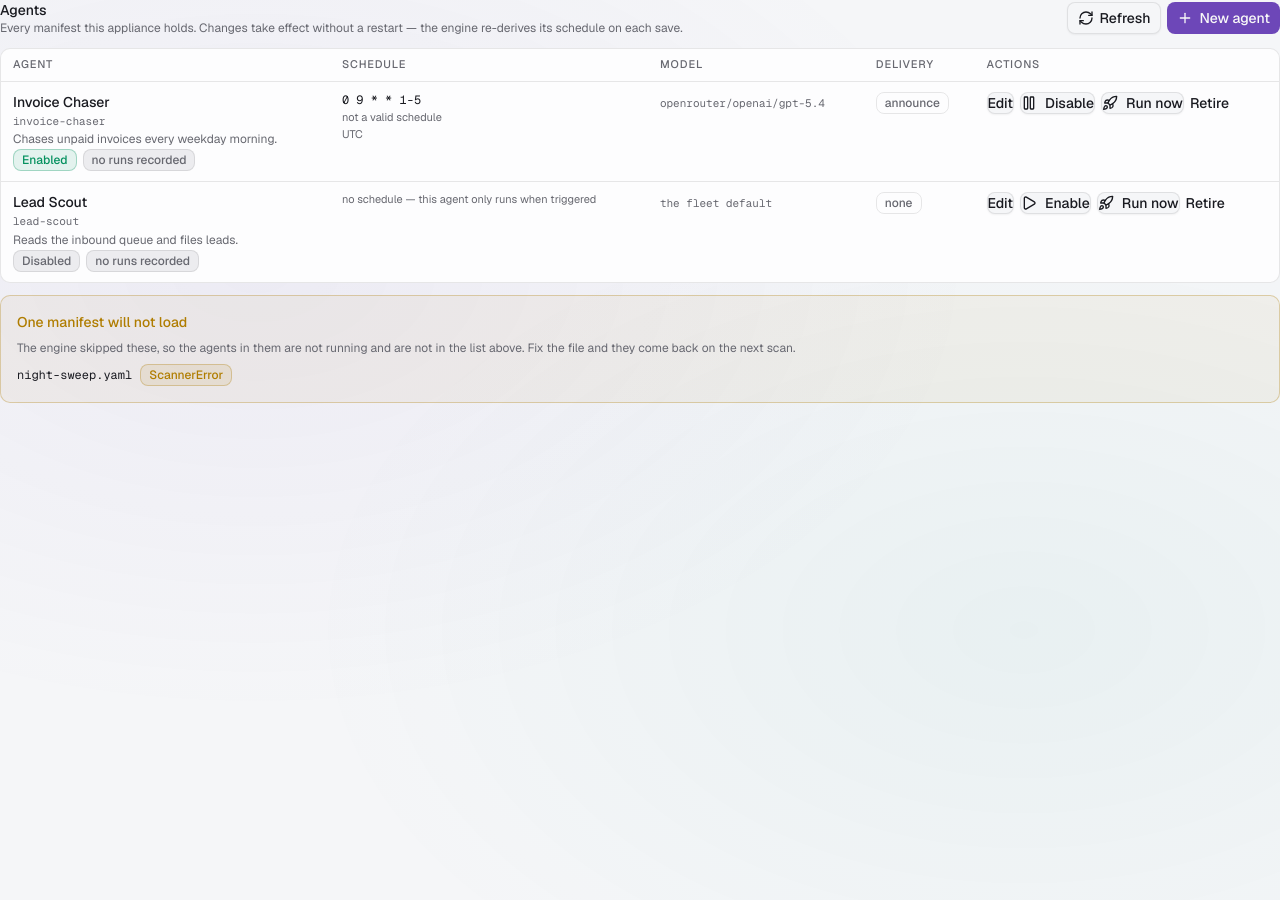
it: AgentManifests — creating › warns when the manifest was written but the engine did not reconcile
The width and height of the screenshot is (1280, 900).
Expected: the row with test id "agent-row-invoice-chaser" is shown, [1,81,1279,182]
Step 1. Click the button with test id "agent-new" → (1224, 18), box [1167,2,1279,34]
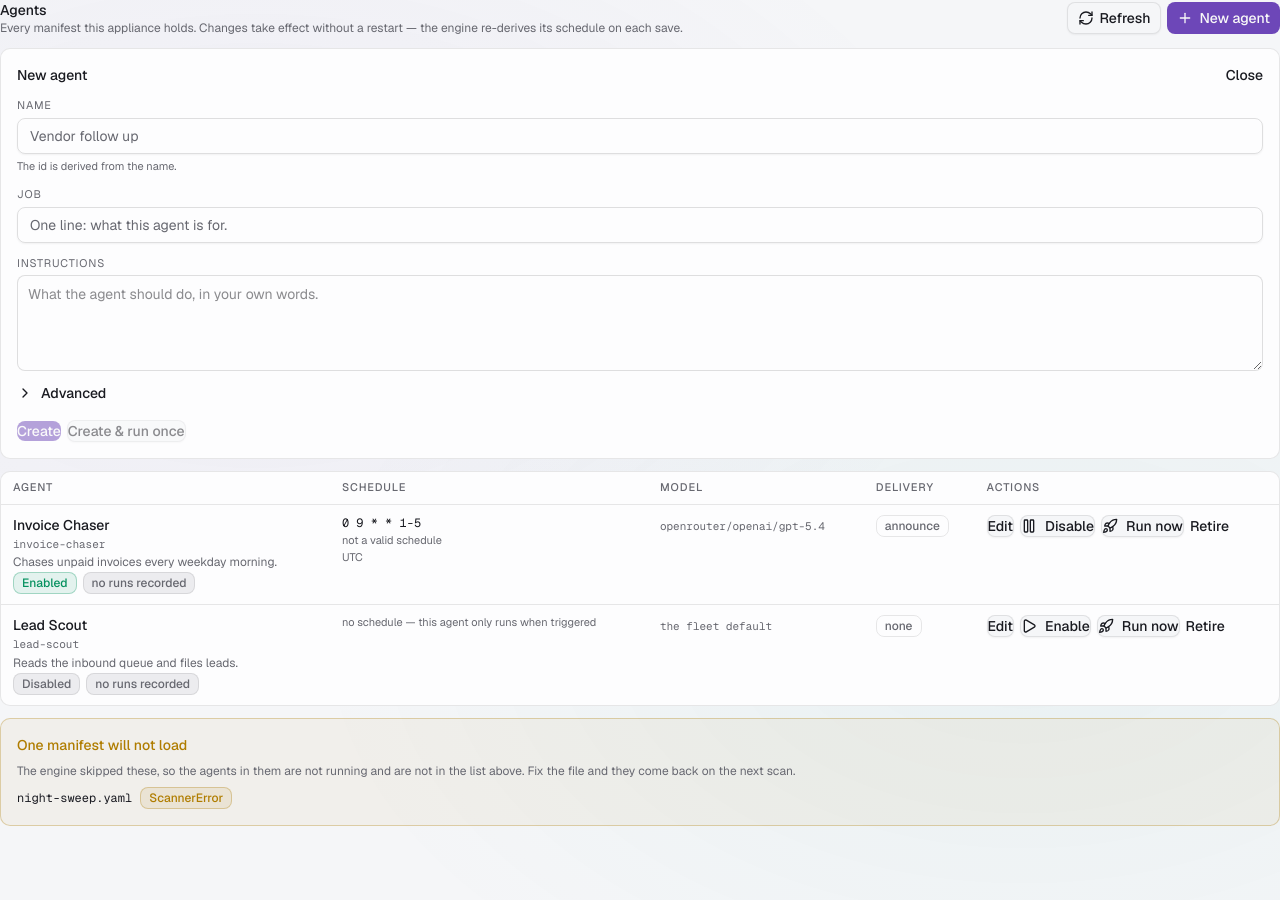
Step 2. Type "Vendor Follow Up" into the field with test id "agent-field-name" → (640, 136), box [17,118,1263,154]
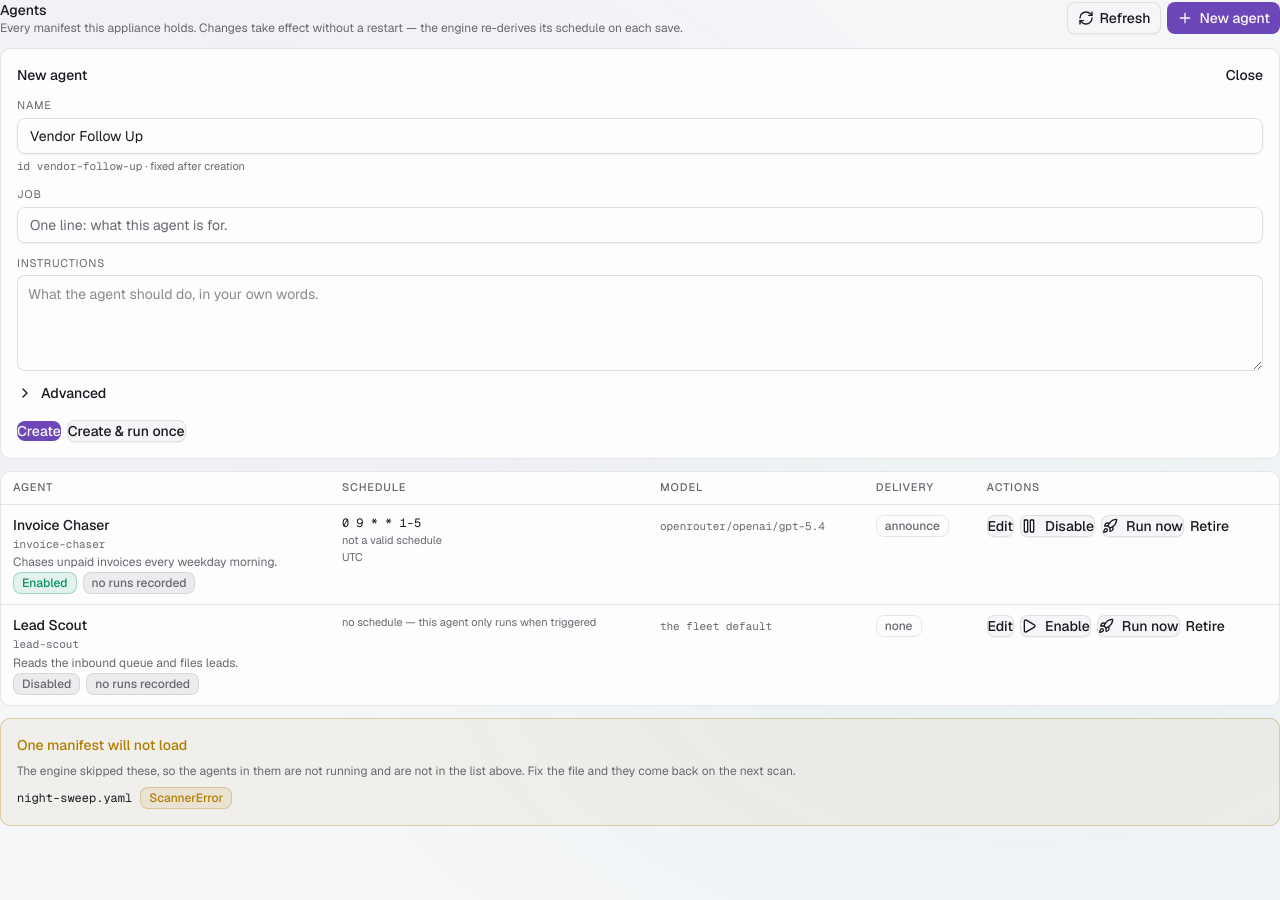
Step 3. Type "Chase vendors who have gone quiet." into the field with test id "agent-field-job" → (640, 224), box [17,206,1263,242]
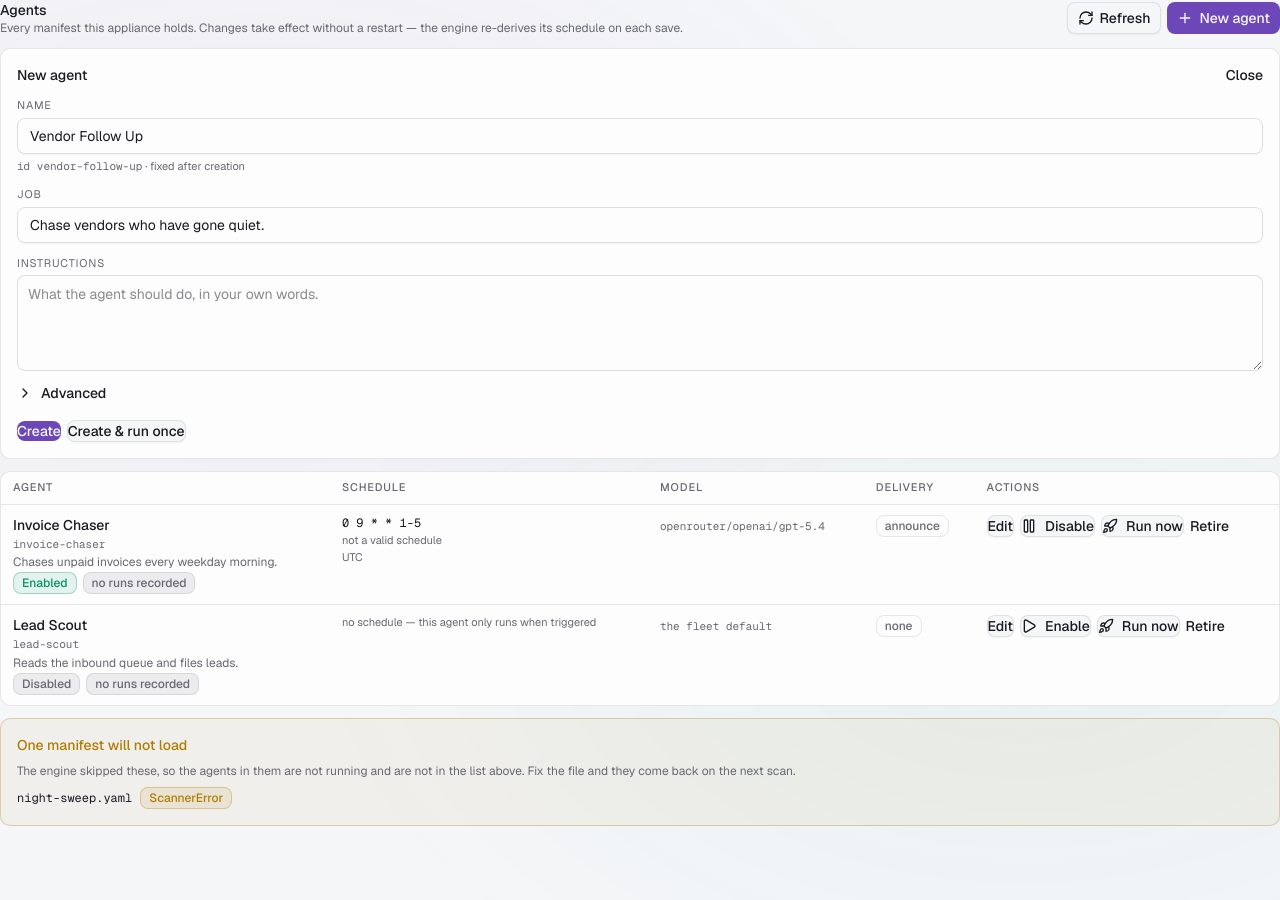
Step 4. Type "Open the vendor list and write to anyone silent for a week." into the text box with test id "agent-field-instructions" → (640, 323), box [17,275,1263,371]
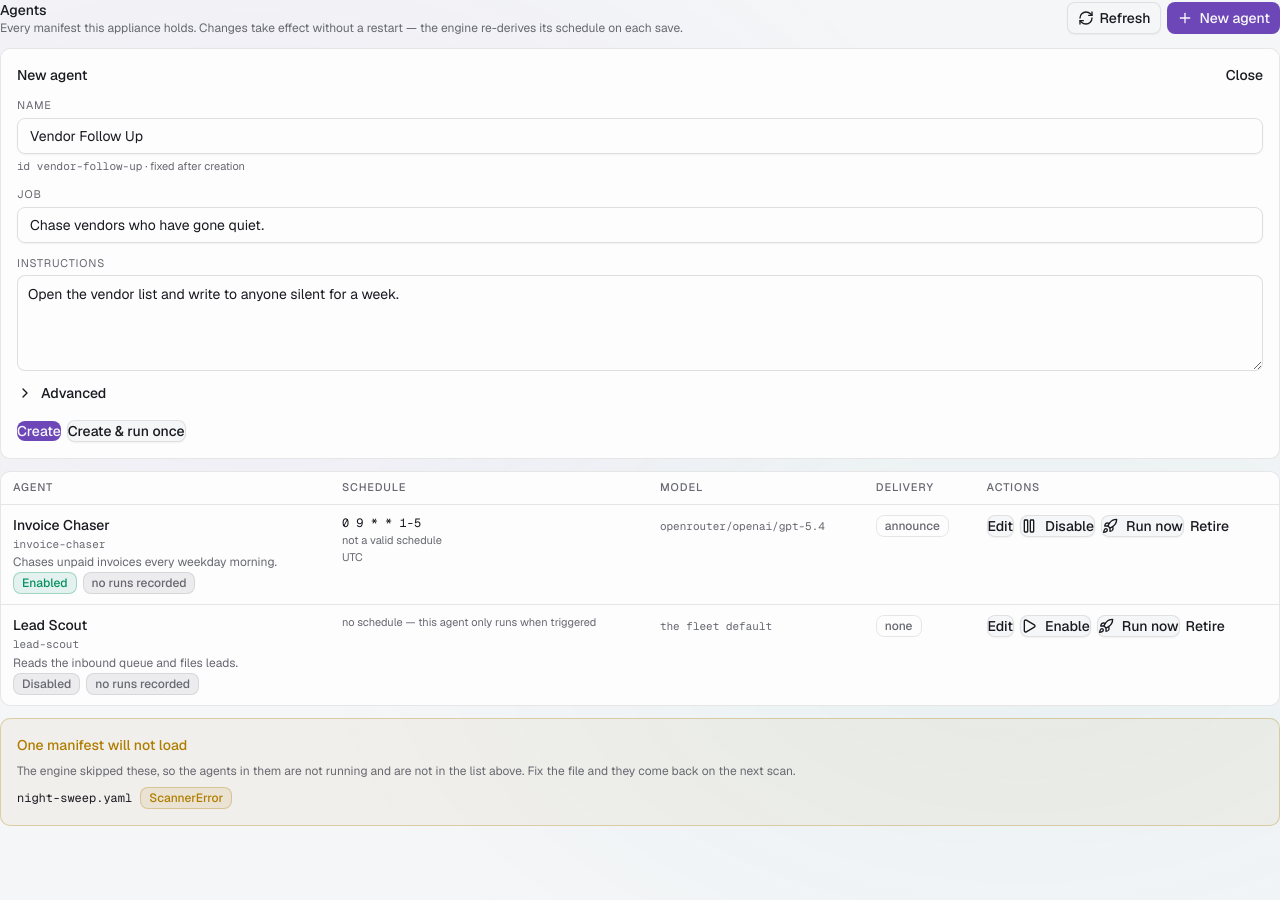
Step 5. Click the button with test id "agent-create" → (39, 431), box [17,421,61,441]
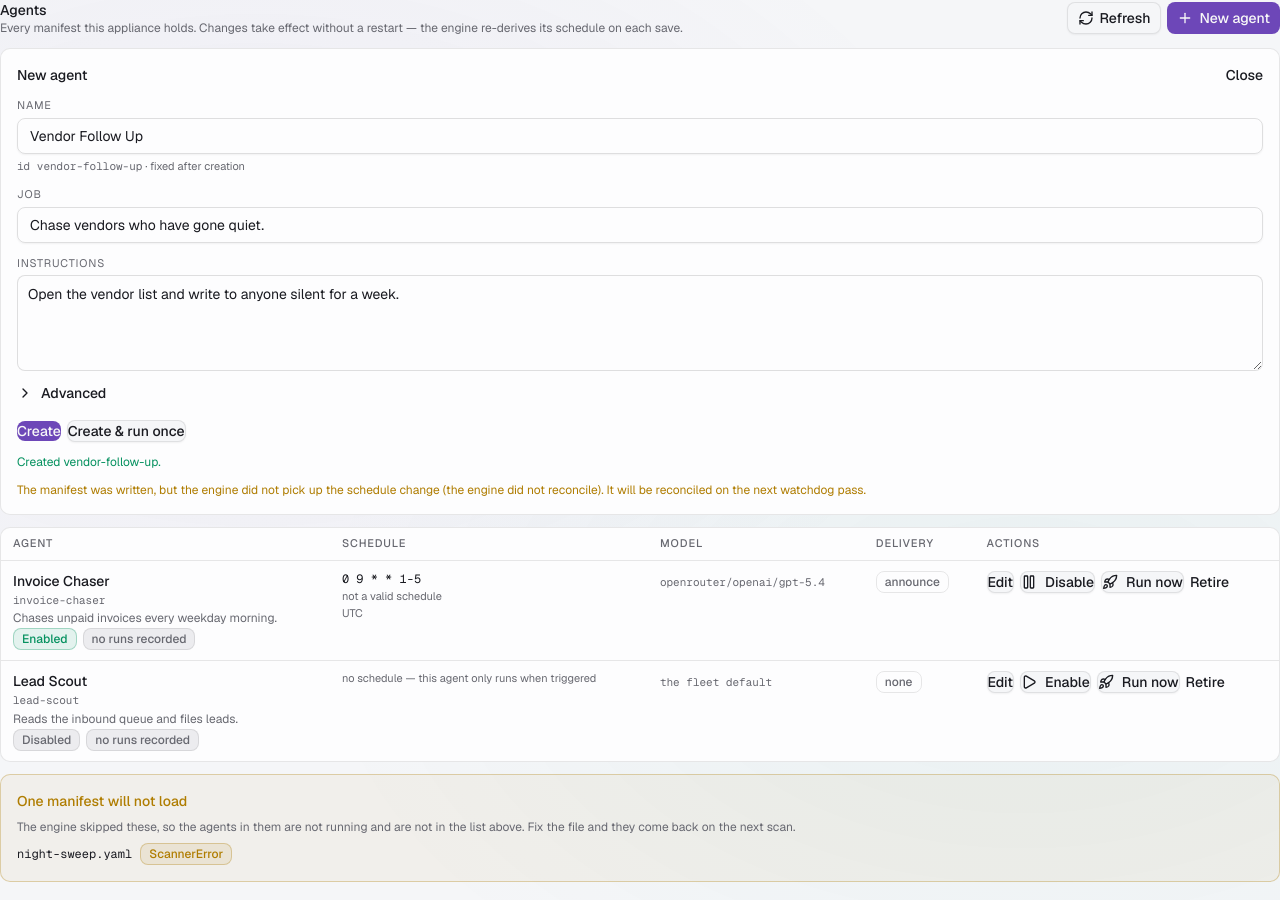
Expected: the text with test id "agent-panel-reconcile" shows "the engine did not reconcile", [17,482,866,498]
